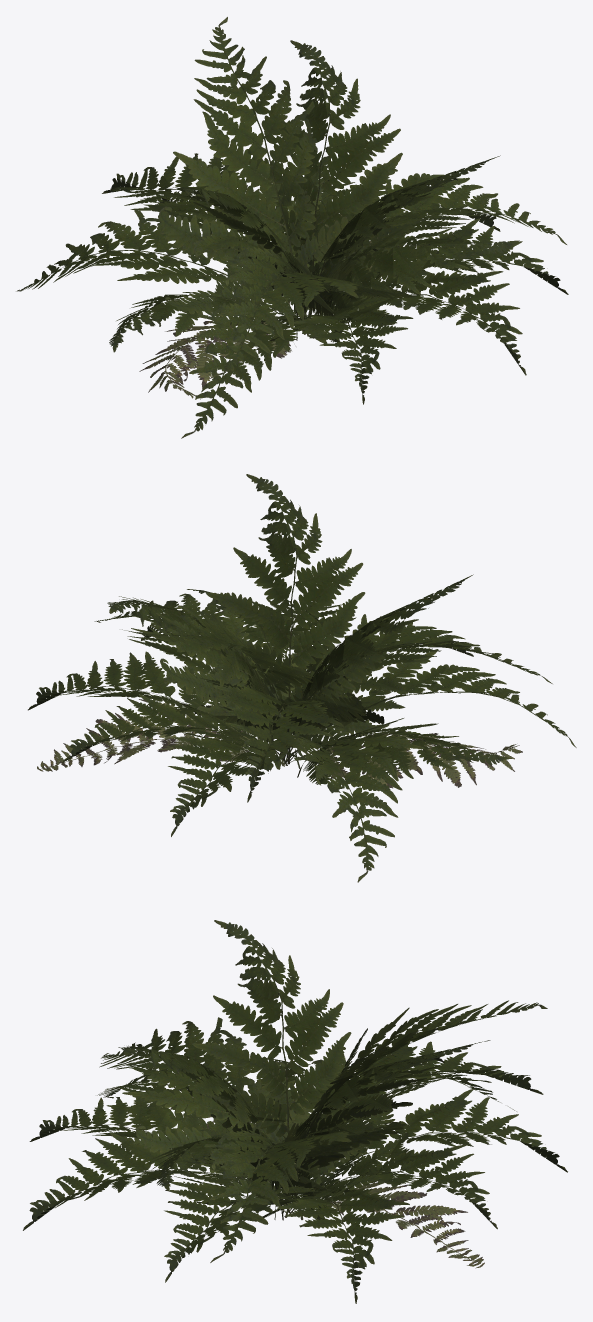
Rendered from s3dplants_swordfern01.gltf.
3 views of the same model, one above another, from view 1: azimuth 30°, elevation 25°; view 2: azimuth 150°, elevation 25°; view 3: azimuth 270°, elevation 25° (orthographic). The views are drawn at different scales.
Visible parts, largest first — view 1: swordfern01:1; view 2: swordfern01:1; view 3: swordfern01:1.
Boxes of the visible parts, x1,y1,x2,y2 form: swordfern01:1: [16, 17, 568, 438]; swordfern01:1: [28, 474, 576, 882]; swordfern01:1: [23, 920, 567, 1303].
Size of the model in its own units: 0.8924 by 0.4433 by 0.9268.
1 material, 1 textured.
